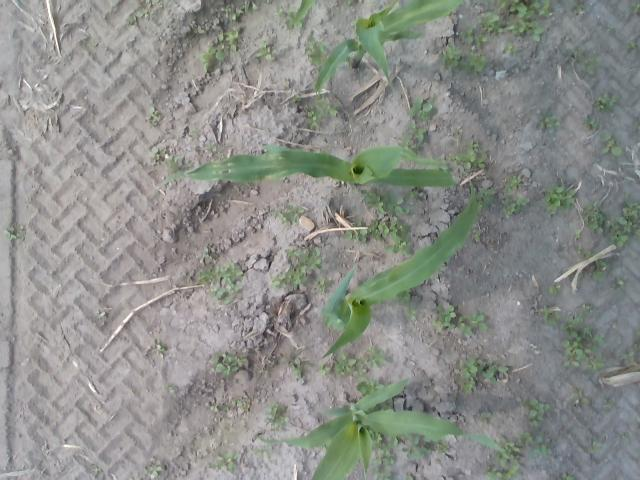Maize: (319, 177, 477, 357), (257, 376, 510, 480), (316, 0, 462, 95), (149, 144, 456, 188), (294, 1, 314, 23)
Weeds: (200, 262, 243, 304), (210, 352, 248, 376), (524, 398, 550, 428), (606, 216, 630, 248), (510, 0, 550, 18), (495, 452, 520, 480), (372, 434, 395, 464), (264, 403, 290, 428), (406, 97, 434, 120), (584, 202, 604, 234), (582, 348, 606, 374), (459, 314, 487, 336), (368, 218, 398, 238), (587, 250, 606, 281), (306, 36, 326, 65), (361, 190, 385, 214), (544, 184, 564, 212), (482, 362, 510, 382), (384, 232, 410, 253), (563, 339, 582, 366), (344, 221, 368, 242), (334, 354, 356, 376), (594, 92, 618, 112), (366, 344, 386, 368), (454, 358, 478, 378), (478, 10, 499, 32), (601, 133, 621, 156), (440, 46, 460, 69), (467, 52, 487, 74), (302, 248, 322, 270), (217, 452, 239, 472), (562, 316, 580, 340), (450, 154, 475, 170), (384, 192, 402, 214), (538, 113, 561, 129), (541, 306, 560, 325), (436, 304, 456, 322), (527, 20, 544, 41), (398, 131, 416, 150), (284, 205, 304, 222), (316, 100, 337, 116), (286, 268, 307, 284), (622, 202, 640, 220), (145, 462, 163, 480), (409, 123, 426, 142), (402, 447, 430, 458), (145, 107, 161, 126), (508, 19, 528, 34), (269, 271, 286, 288), (286, 12, 302, 30), (504, 176, 520, 194), (202, 48, 214, 71), (459, 26, 474, 44), (525, 444, 547, 456), (372, 467, 392, 480), (286, 248, 302, 264), (564, 188, 578, 206), (626, 221, 640, 239), (574, 388, 588, 406), (356, 381, 384, 390), (148, 145, 160, 165), (166, 156, 179, 174), (226, 31, 238, 50), (274, 210, 290, 224), (460, 378, 476, 392), (254, 447, 274, 458), (308, 110, 320, 128), (232, 400, 250, 412), (204, 244, 216, 262), (292, 357, 302, 378), (155, 340, 166, 358), (465, 141, 479, 155), (518, 431, 532, 445), (583, 324, 593, 342), (405, 303, 417, 318), (475, 34, 486, 50), (254, 42, 266, 56), (504, 202, 516, 216), (610, 275, 622, 289), (588, 440, 602, 452), (500, 436, 514, 448), (134, 10, 150, 20), (432, 320, 444, 333), (5, 226, 16, 240), (399, 290, 410, 304), (437, 440, 448, 454), (586, 116, 598, 128), (479, 412, 491, 424), (485, 471, 501, 480), (406, 434, 420, 444), (243, 3, 258, 12), (503, 44, 518, 53), (592, 334, 604, 345), (204, 141, 217, 151), (517, 196, 530, 206), (620, 352, 634, 361), (186, 270, 195, 284), (232, 10, 243, 21), (588, 57, 600, 67), (582, 66, 594, 76), (626, 42, 638, 52), (314, 280, 324, 292), (399, 222, 406, 239), (316, 365, 329, 374), (18, 226, 26, 240), (574, 6, 584, 17), (480, 147, 490, 158), (222, 4, 230, 17), (266, 48, 276, 58), (390, 436, 400, 446), (357, 357, 368, 366), (604, 399, 615, 408), (279, 355, 290, 364), (290, 347, 301, 356), (560, 473, 574, 480), (444, 321, 456, 329), (498, 26, 514, 32), (476, 158, 485, 168), (498, 15, 506, 26), (193, 27, 205, 34), (216, 50, 225, 59), (408, 190, 418, 198), (549, 284, 557, 294), (358, 364, 366, 374), (473, 230, 479, 243), (570, 50, 578, 59), (214, 34, 223, 42), (460, 58, 468, 67), (502, 198, 511, 206), (580, 304, 592, 310), (476, 352, 482, 364), (270, 428, 282, 434), (260, 370, 269, 378), (632, 4, 640, 12), (211, 405, 219, 413), (4, 96, 12, 104), (500, 0, 507, 9), (97, 311, 106, 318), (456, 130, 462, 140), (168, 386, 178, 392), (162, 146, 168, 156), (156, 0, 163, 8), (514, 207, 522, 214), (267, 360, 275, 367), (273, 10, 282, 16), (575, 229, 581, 238), (634, 343, 640, 352), (624, 191, 630, 199), (146, 0, 152, 8), (576, 243, 582, 251), (534, 436, 542, 442), (512, 446, 520, 452), (222, 404, 230, 410), (292, 97, 301, 102), (190, 127, 196, 134), (634, 121, 640, 128), (576, 314, 583, 320), (292, 284, 298, 291), (94, 466, 100, 473), (408, 475, 416, 480), (92, 40, 98, 46), (128, 20, 134, 26), (622, 433, 628, 438), (393, 215, 397, 222), (502, 119, 509, 123), (608, 25, 612, 31), (636, 331, 640, 337), (404, 208, 408, 213)
